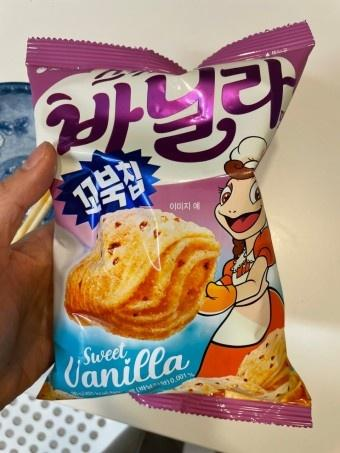snack: (25, 19, 317, 427)
